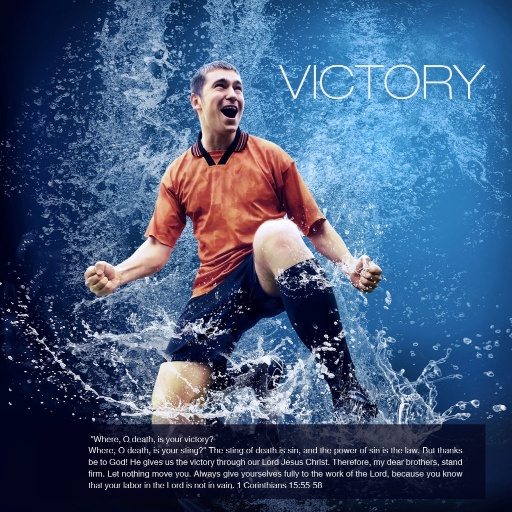hand: (329, 248, 384, 294), (82, 259, 118, 297)
